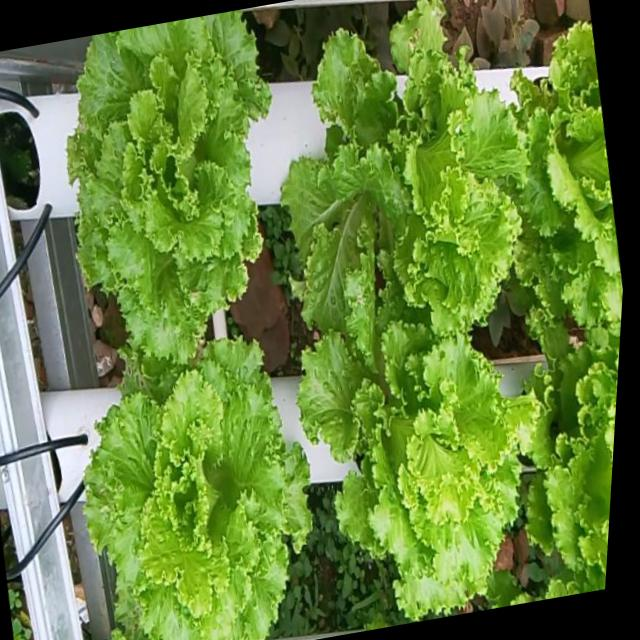Mature: (293, 0, 567, 335), (314, 292, 583, 620), (61, 7, 283, 396), (86, 344, 330, 640)
